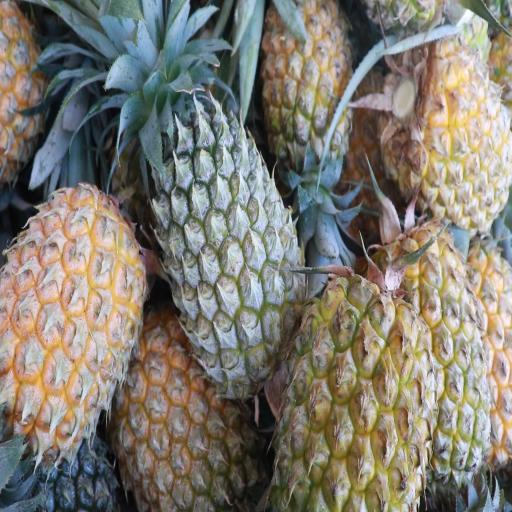------------------------------: (262, 0, 357, 192)
Pineapple - v8 v1: (271, 276, 429, 512), (0, 185, 142, 436), (378, 236, 492, 474), (117, 314, 252, 512), (382, 37, 510, 224)
